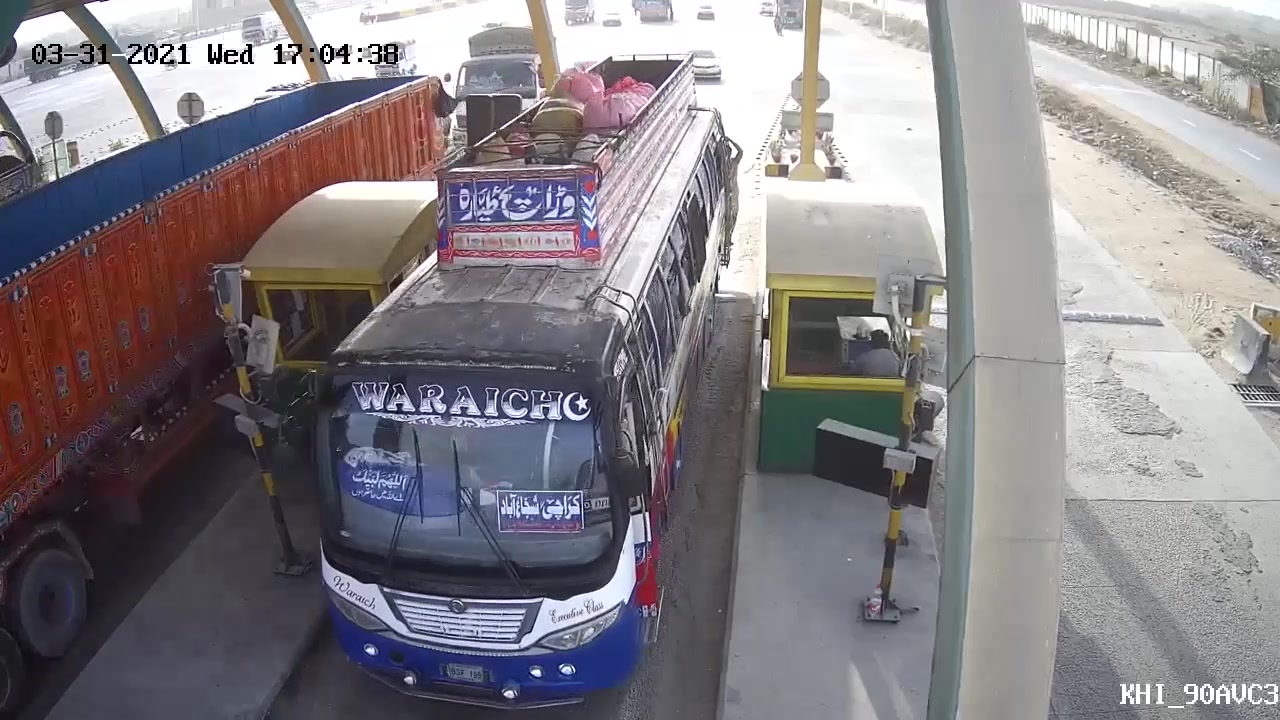F4: (296, 61, 728, 720)
